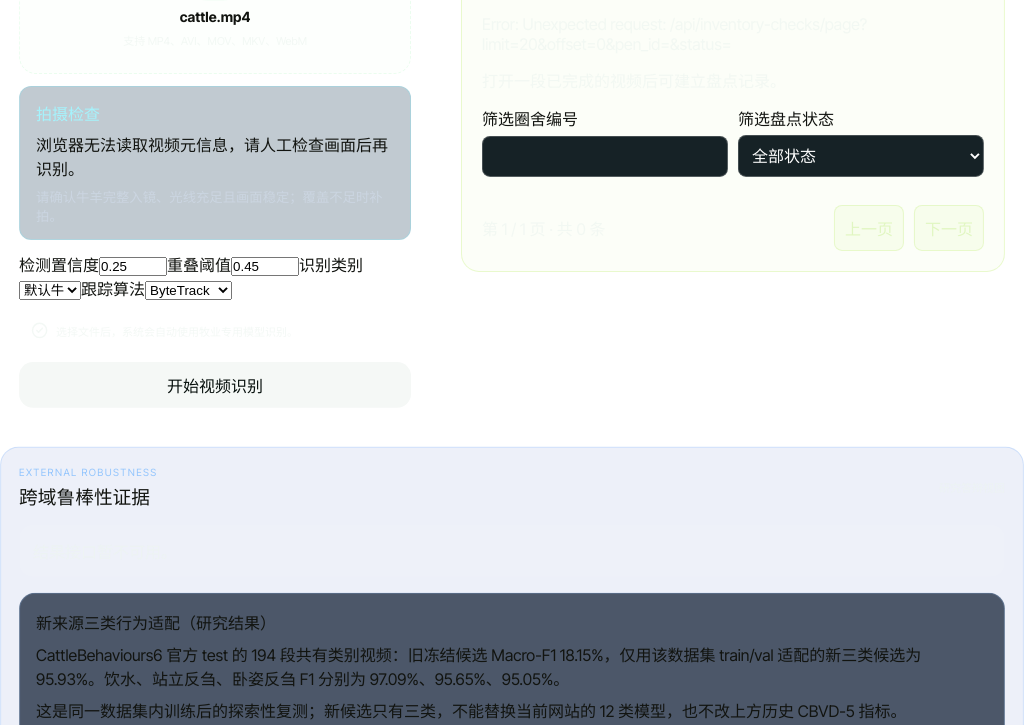
Test: shows research behavior summaries and downloads
The width and height of the screenshot is (1024, 725).
Earlier steps of the test are not shown.
(page scrolled)
Click the button "开始视频识别". click: (215, 384)
box: left=19, top=362, right=411, bottom=408
(page scrolled)
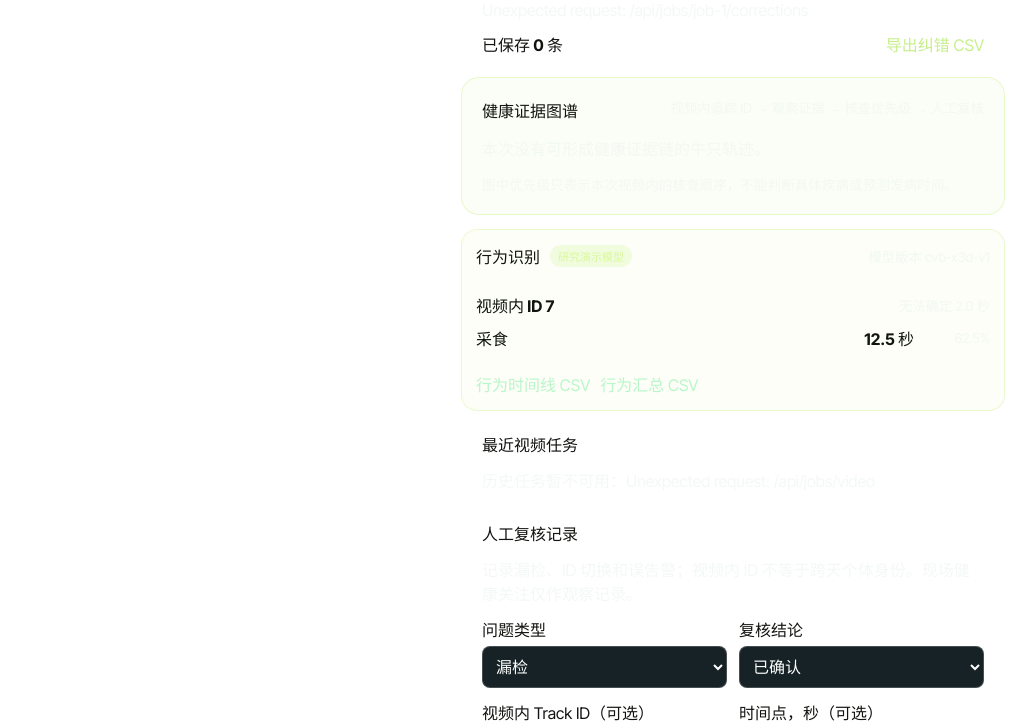
Expected: the text "研究演示模型" is shown, left=550, top=245, right=632, bottom=267
Expected: the text "视频内 ID 7" is shown, left=476, top=293, right=554, bottom=317
Expected: the text "采食" is shown, left=476, top=329, right=508, bottom=349
